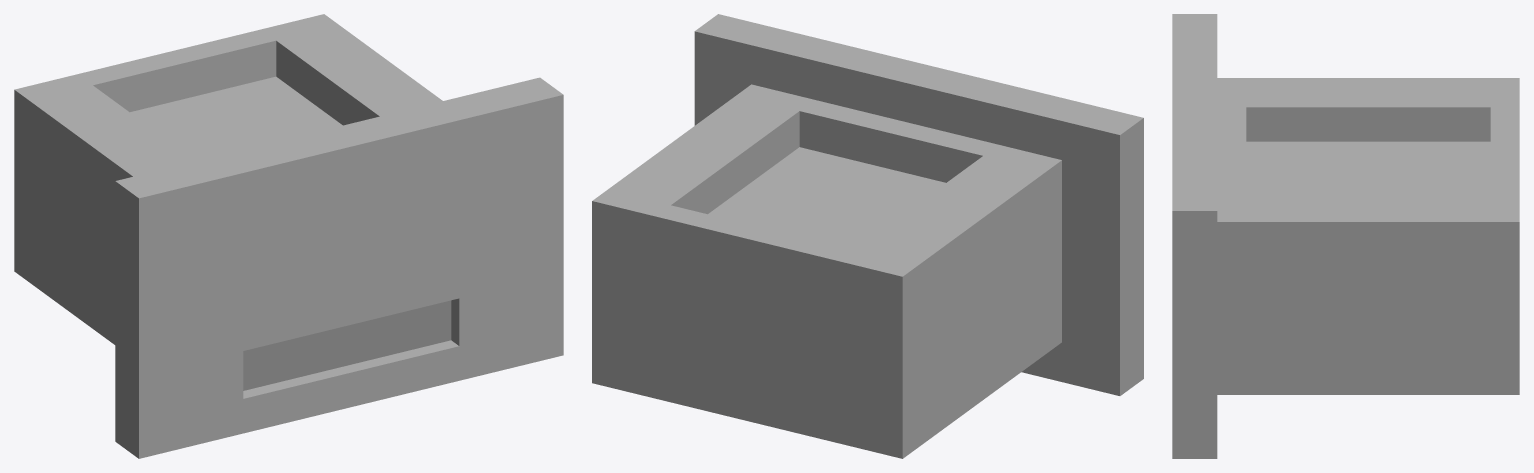
The model's file is Washer_02.fbx.
The picture shows the model from 3 angles, left to right: view 1: azimuth 30°, elevation 25°; view 2: azimuth 150°, elevation 25°; view 3: azimuth 270°, elevation 25°; orthographic projection. The views are drawn at different scales.
Parts seen in each view (by area): view 1: Washer_02; view 2: Washer_02; view 3: Washer_02.
Part boxes in pixels (x1,y1,x2,y2): Washer_02: (14, 14, 563, 458); Washer_02: (592, 14, 1143, 458); Washer_02: (1172, 14, 1519, 458).
Size of the model in its own units: 21.75 by 12.75 by 16.2.
